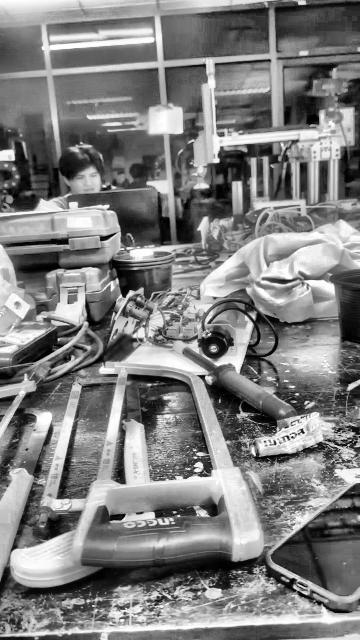pot: (329, 269, 359, 345)
